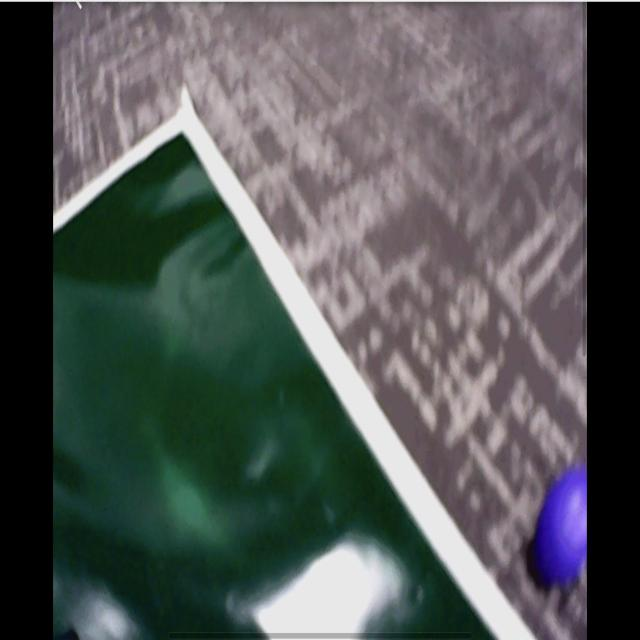ball: (534, 468, 586, 586)
